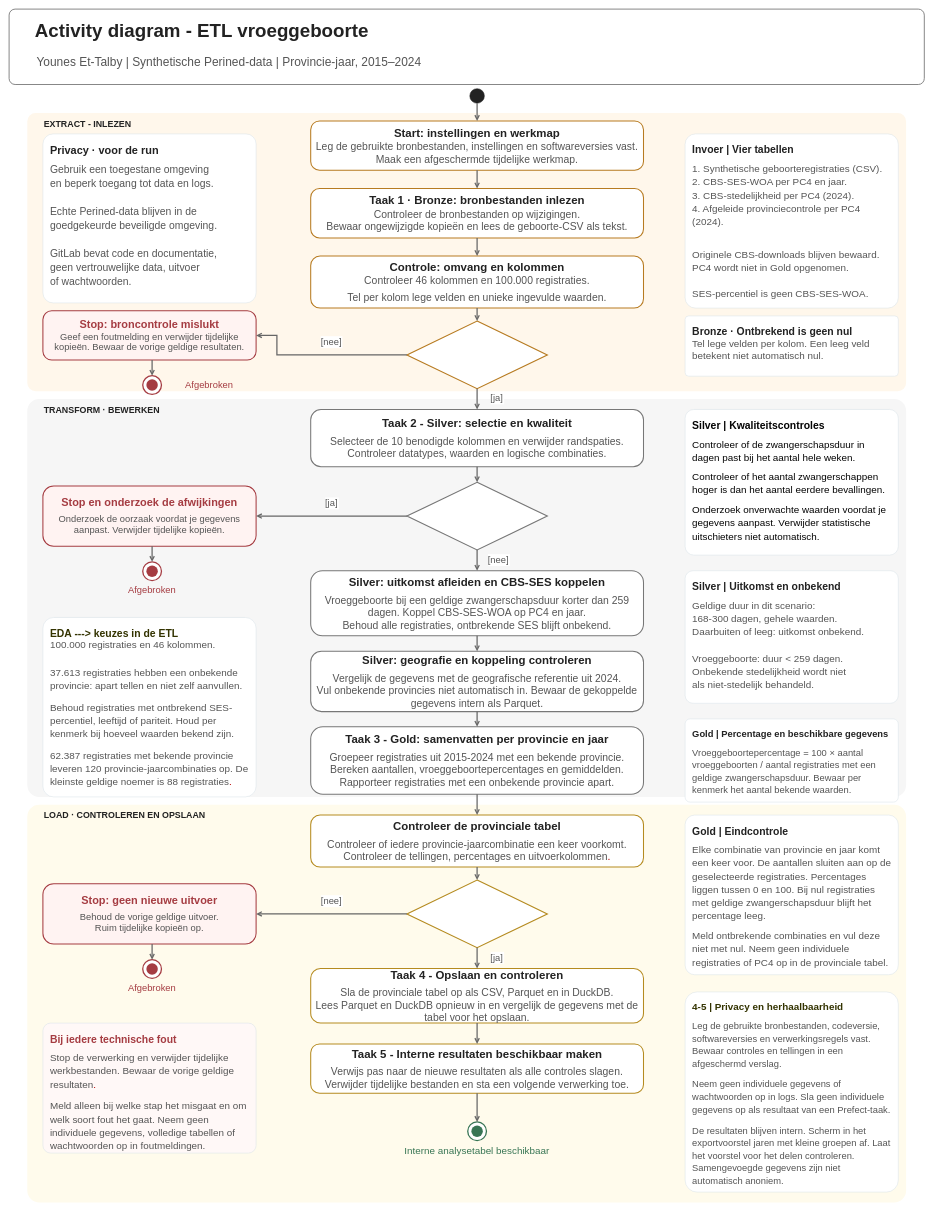
Some shapes in this 934 by 1212 pixel diagram are drawn without their labels. The centre of each missing label's shape, as x and y in pixels:
"Broncontroles geslaagd?" belongs at pixel 477 354.
"Controles geslaagd?" belongs at pixel 477 913.
"Onverklaarde fouten?" belongs at pixel 477 515.
